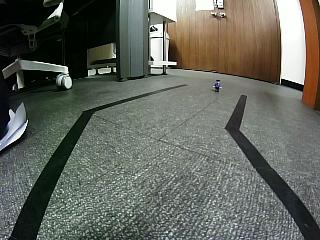person: (213, 79, 222, 92)
